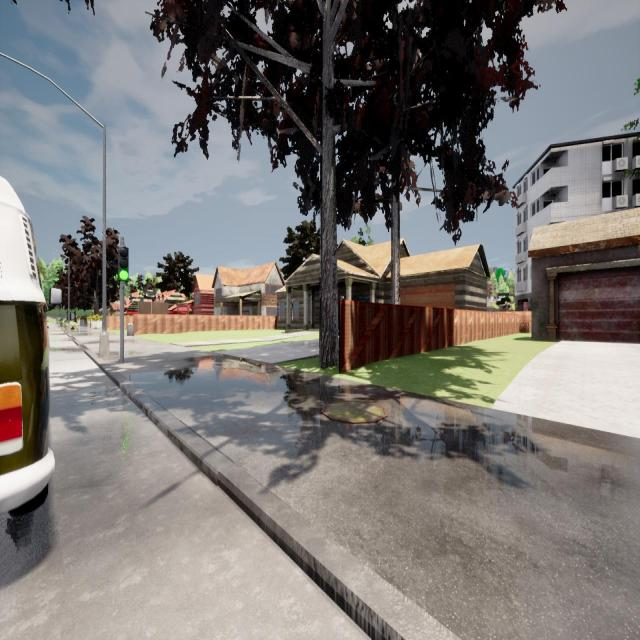Vehicle: (0, 177, 63, 512)
traffic_light: (118, 246, 129, 281)
